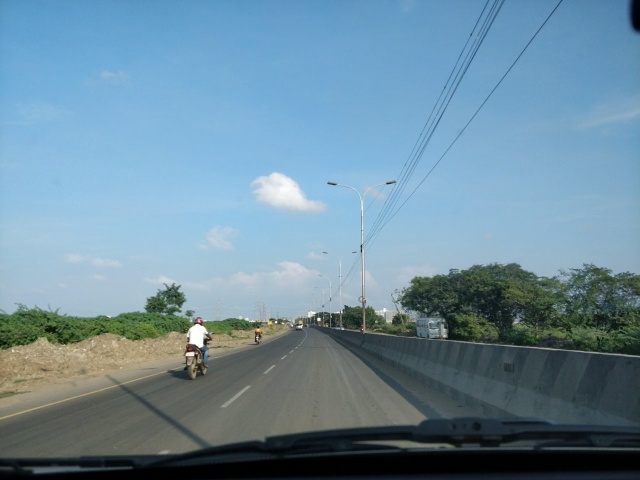car: (294, 323, 305, 331)
motorbike: (183, 311, 215, 381), (251, 323, 268, 346)
truck: (416, 312, 449, 342)
